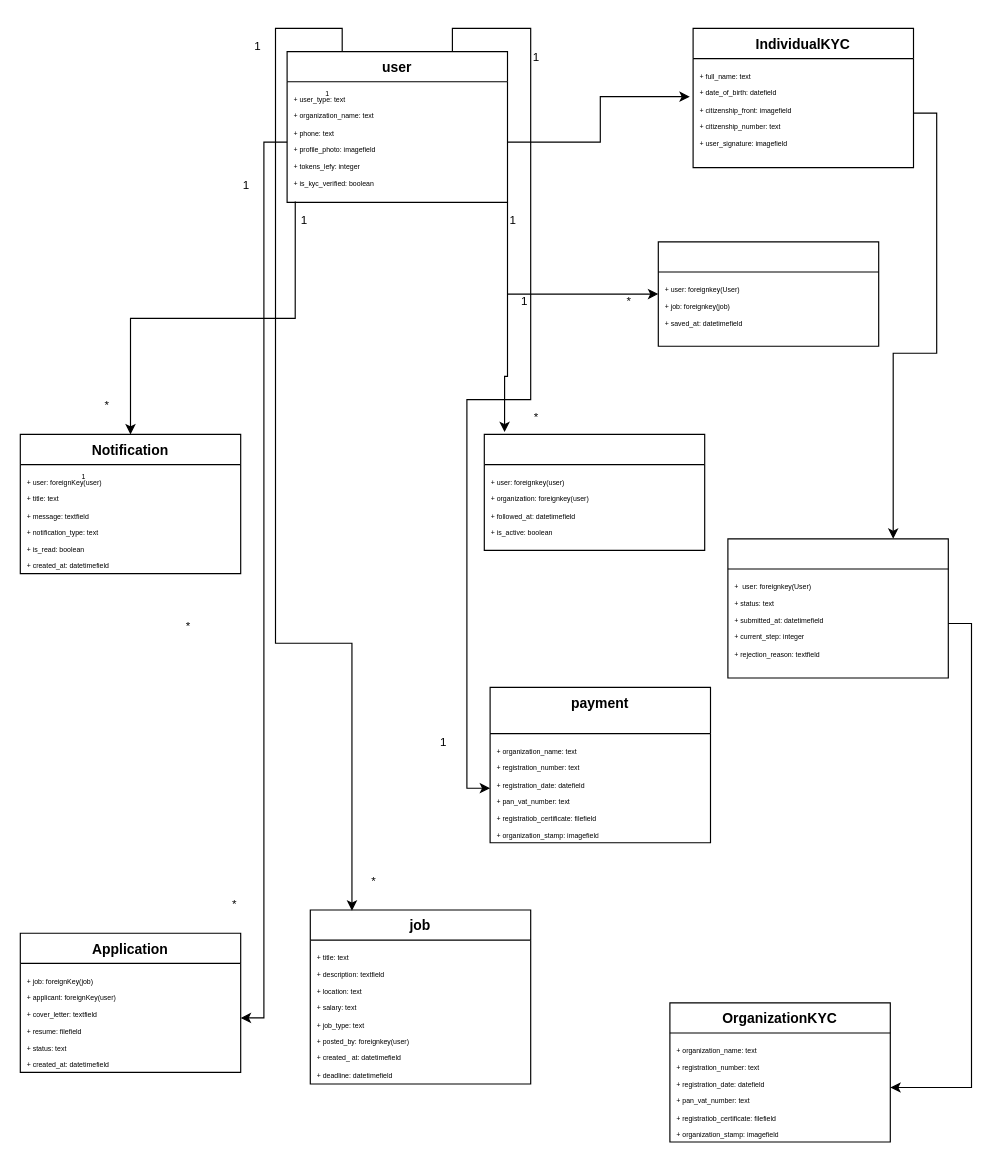
This 1001x1166 diagram has some shape labels left out. The shapes that lost their labels are listed below. From the top down, each one's box as (x1, y1, x2, y2) in pixels, then its label:
(657, 241, 879, 346): SavedJob
(483, 433, 705, 550): Organizationfollow
(727, 538, 948, 678): kycBase(Abstract)
